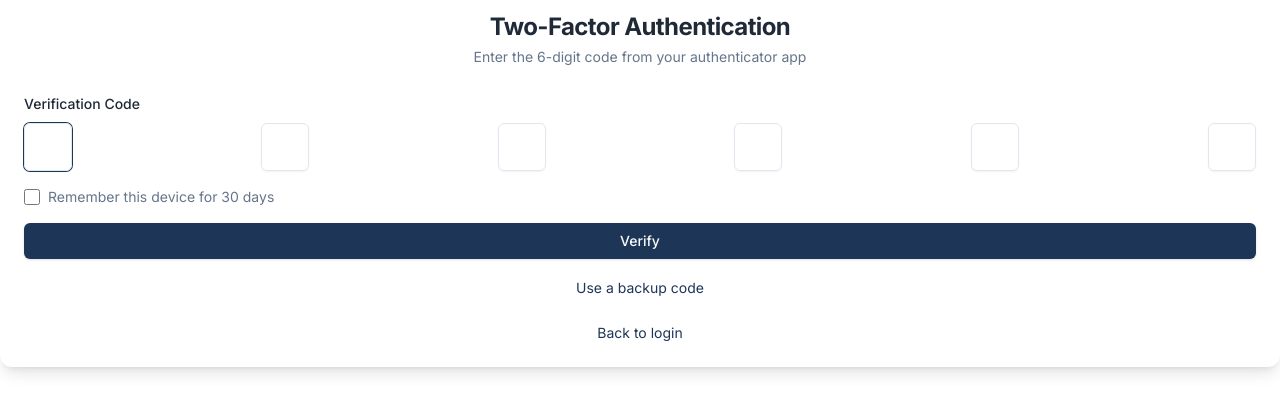
Test: VerifyMfaPage › should toggle back to TOTP from backup code
Step 1. Click the button "Use a backup code" → point(640, 288), box [576,278,704,298]
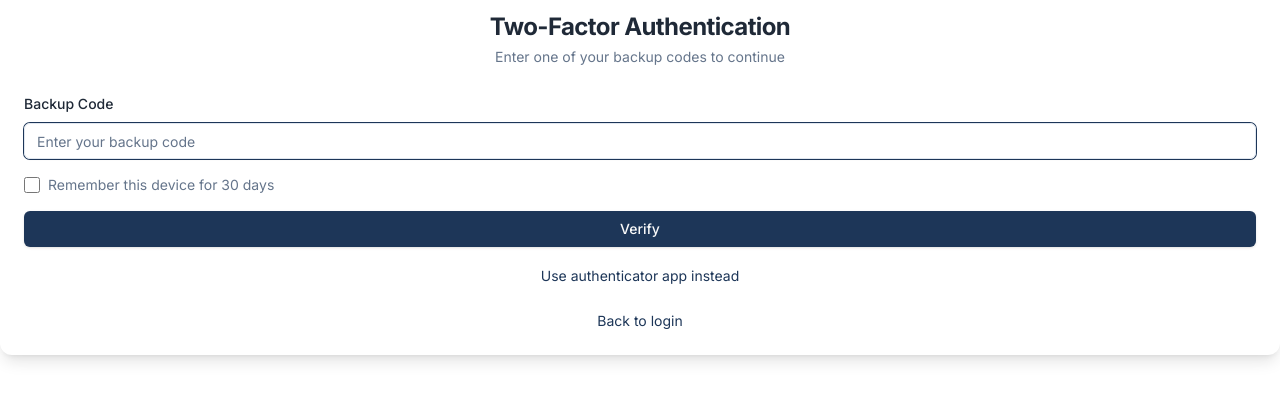
Step 2. Click the button "Use authenticator app instead" → point(640, 276), box [541,266,739,286]
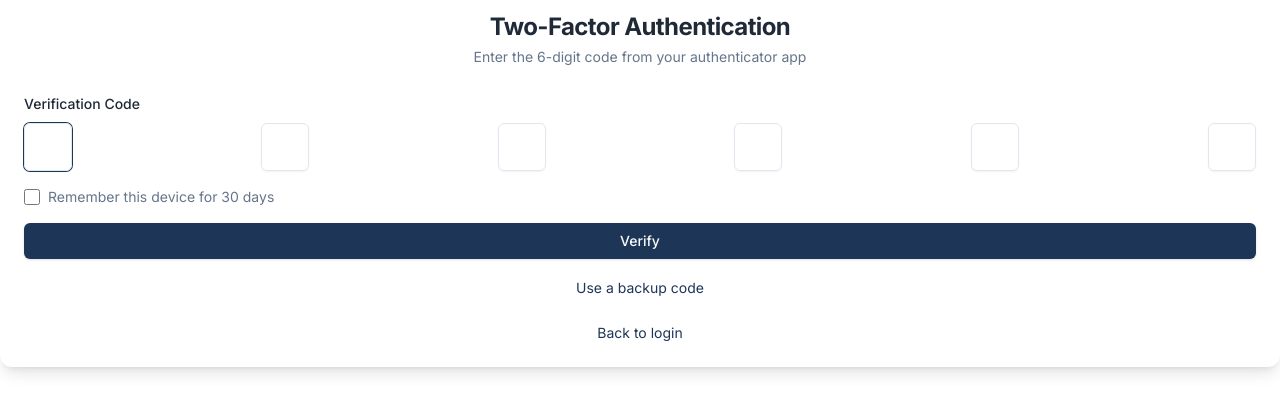
Result: the text "Enter the 6-digit code from your authenticator app" is shown at [474,48,806,65]
